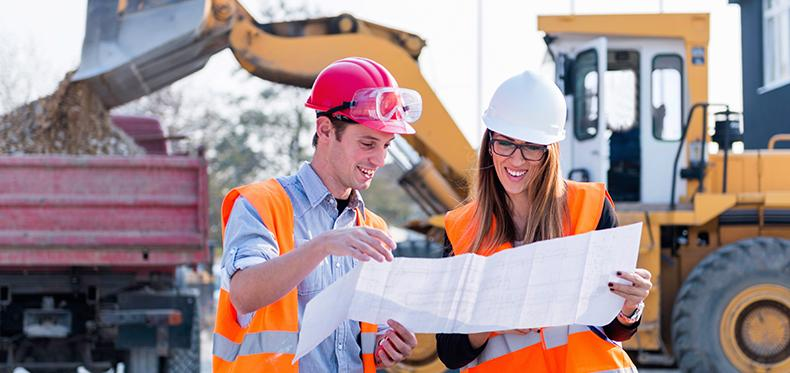helmet: (307, 57, 418, 139), (481, 70, 569, 147)
